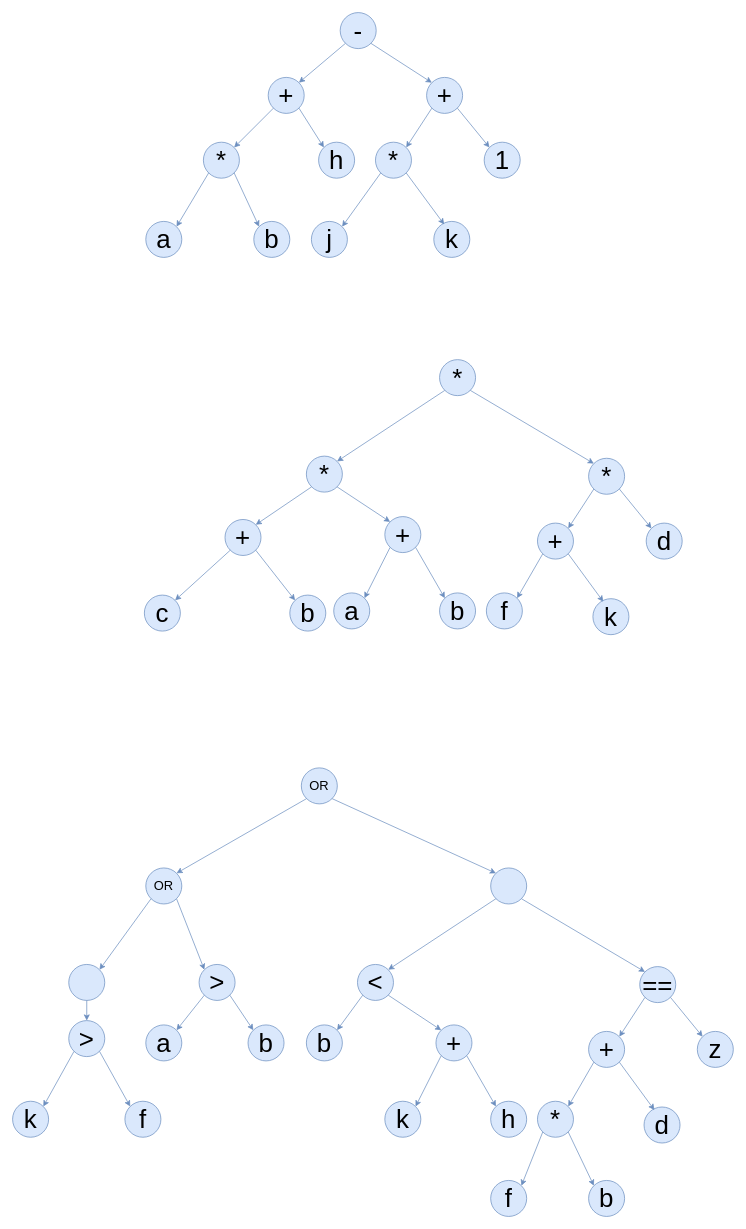
Image size: 746x1229. Some labels were removed from this diagram. The shapes that lost their labels are listed below. From the top down, each one's box as (x1, y1, x2, y2) in pixels, then its label:
(490, 867, 527, 904): AND
(68, 964, 105, 1000): NOT
